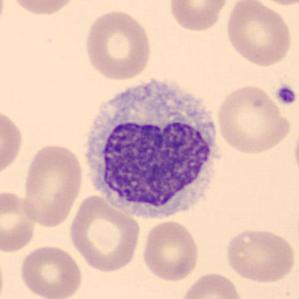Monocyte: (75, 71, 224, 224)
Platelets: (274, 83, 298, 108)
RBC: (67, 192, 142, 274), (20, 141, 85, 229), (214, 83, 290, 156), (82, 7, 153, 82), (223, 0, 294, 68), (222, 226, 296, 284), (141, 218, 201, 284), (18, 244, 84, 299), (0, 188, 38, 253), (167, 0, 230, 33), (178, 270, 245, 299), (0, 106, 26, 180), (5, 0, 79, 17)
